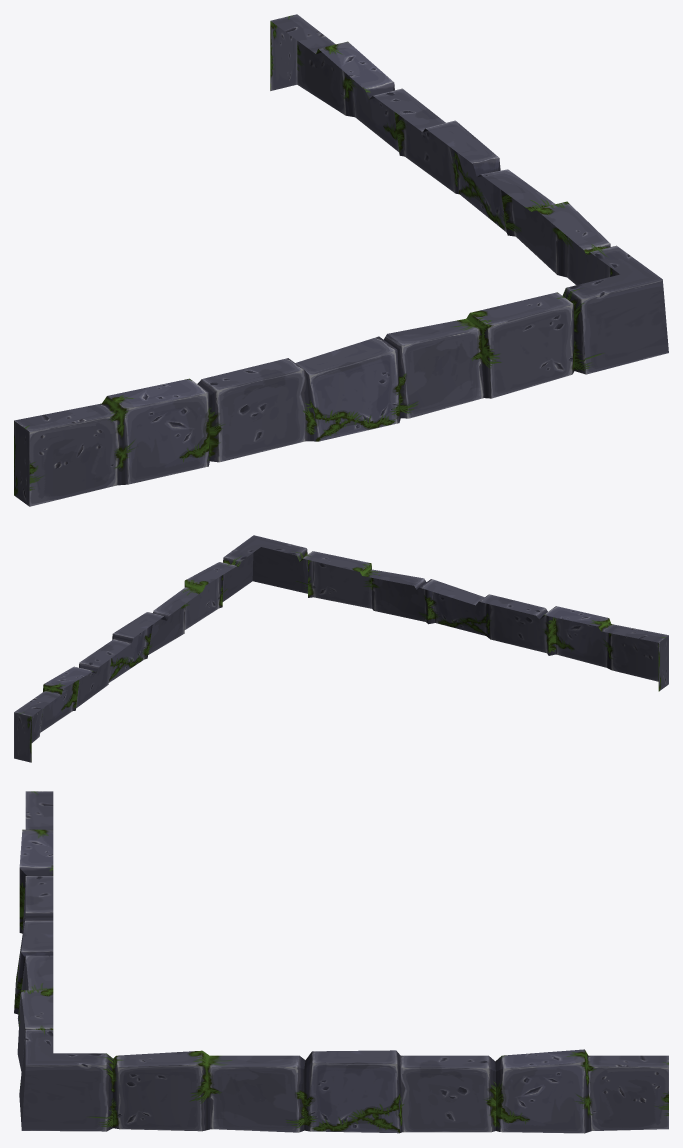
Rendered from MOD_WallTrim_01_E_corner_convex.fbx.
3 views of the same model, one above another, from view 1: azimuth 30°, elevation 25°; view 2: azimuth 150°, elevation 25°; view 3: azimuth 270°, elevation 25° (orthographic). The views are drawn at different scales.
Parts seen in each view (by area): view 1: MOD_WallTrim_01_E_corner_convex; view 2: MOD_WallTrim_01_E_corner_convex; view 3: MOD_WallTrim_01_E_corner_convex.
Part boxes in pixels (bbox=[...]): MOD_WallTrim_01_E_corner_convex: bbox=[14, 14, 668, 506]; MOD_WallTrim_01_E_corner_convex: bbox=[14, 535, 668, 762]; MOD_WallTrim_01_E_corner_convex: bbox=[14, 791, 668, 1133].
Size of what is drawn, in the model's own units: 477 by 54.99 by 479.
